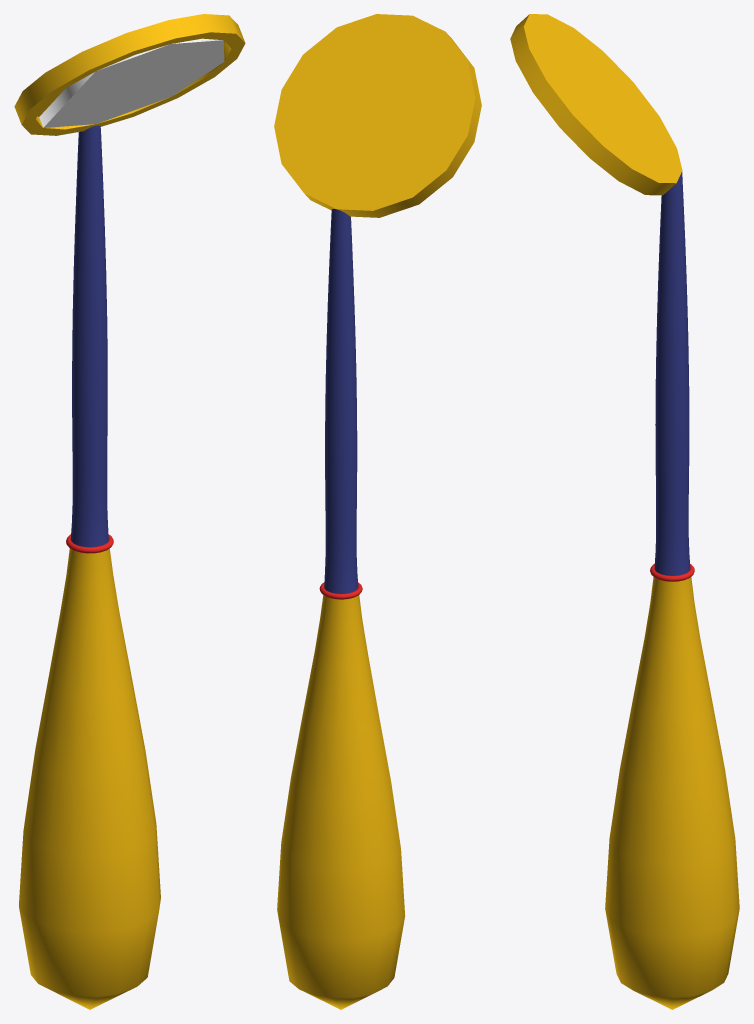
The model's file is specchietto.fbx.
The picture shows the model from 3 angles, left to right: view 1: azimuth 30°, elevation 25°; view 2: azimuth 150°, elevation 25°; view 3: azimuth 270°, elevation 25°; orthographic projection. The views are drawn at different scales.
Parts seen in each view (by area): view 1: Oggetto_3, Oggetto_2, Oggetto_5, Oggetto_1; view 2: Oggetto_3, Oggetto_1, Oggetto_2; view 3: Oggetto_3, Oggetto_1, Oggetto_2.
Boxes of the visible parts, <box> form: Oggetto_3: <box>19,548,160,1009</box>; Oggetto_2: <box>70,125,108,547</box>; Oggetto_5: <box>39,38,224,127</box>; Oggetto_1: <box>14,14,245,135</box>; Oggetto_3: <box>277,595,405,1009</box>; Oggetto_1: <box>274,14,481,217</box>; Oggetto_2: <box>324,209,358,593</box>; Oggetto_3: <box>605,577,739,1009</box>; Oggetto_1: <box>510,14,682,195</box>; Oggetto_2: <box>654,171,690,575</box>.
Bounding box in the file's own units: 4 × 4.09 × 19.32.
